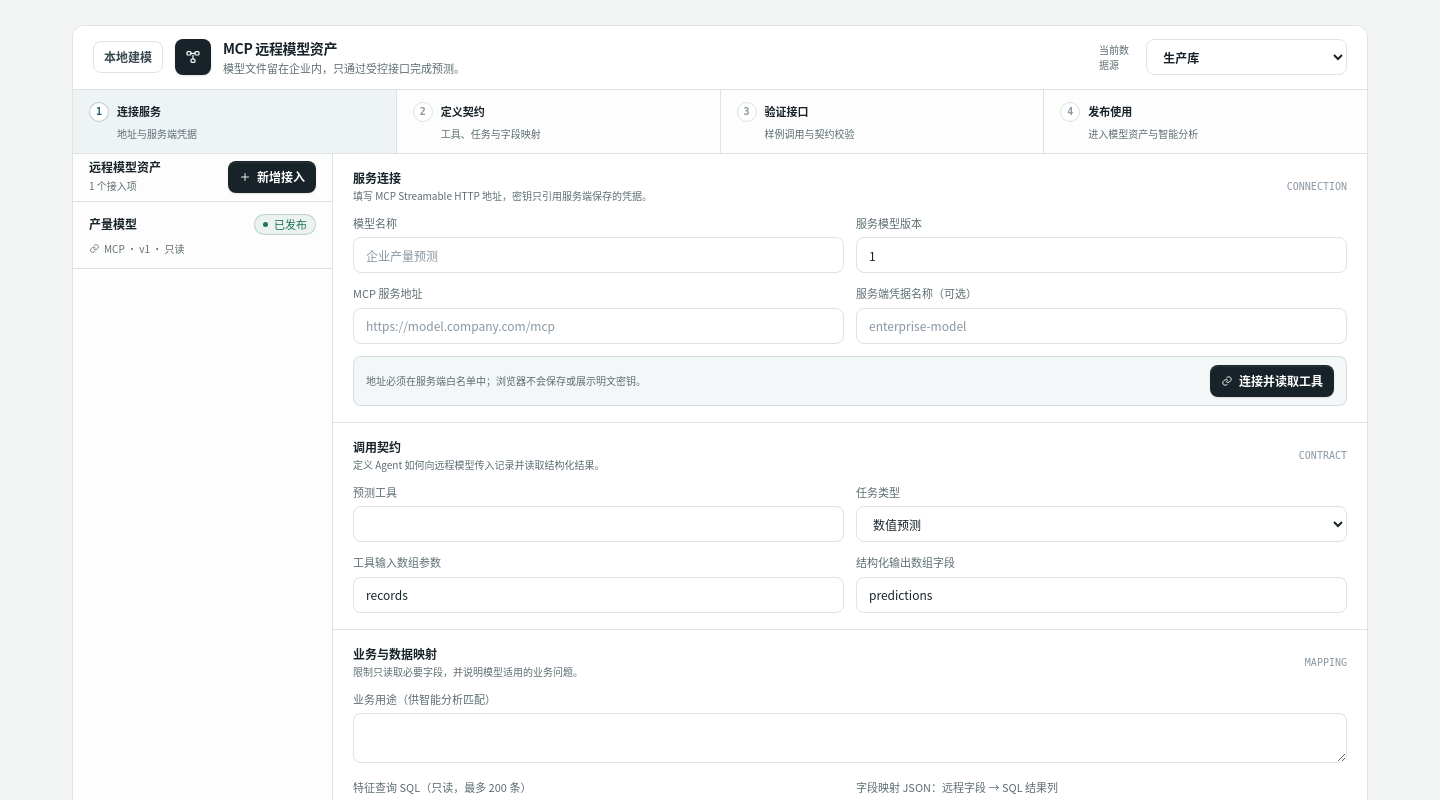
remote models › runs a published model and renders predictions
Click the text "产量模型" at (113, 224), box [89,216,137,232]
(page scrolled)
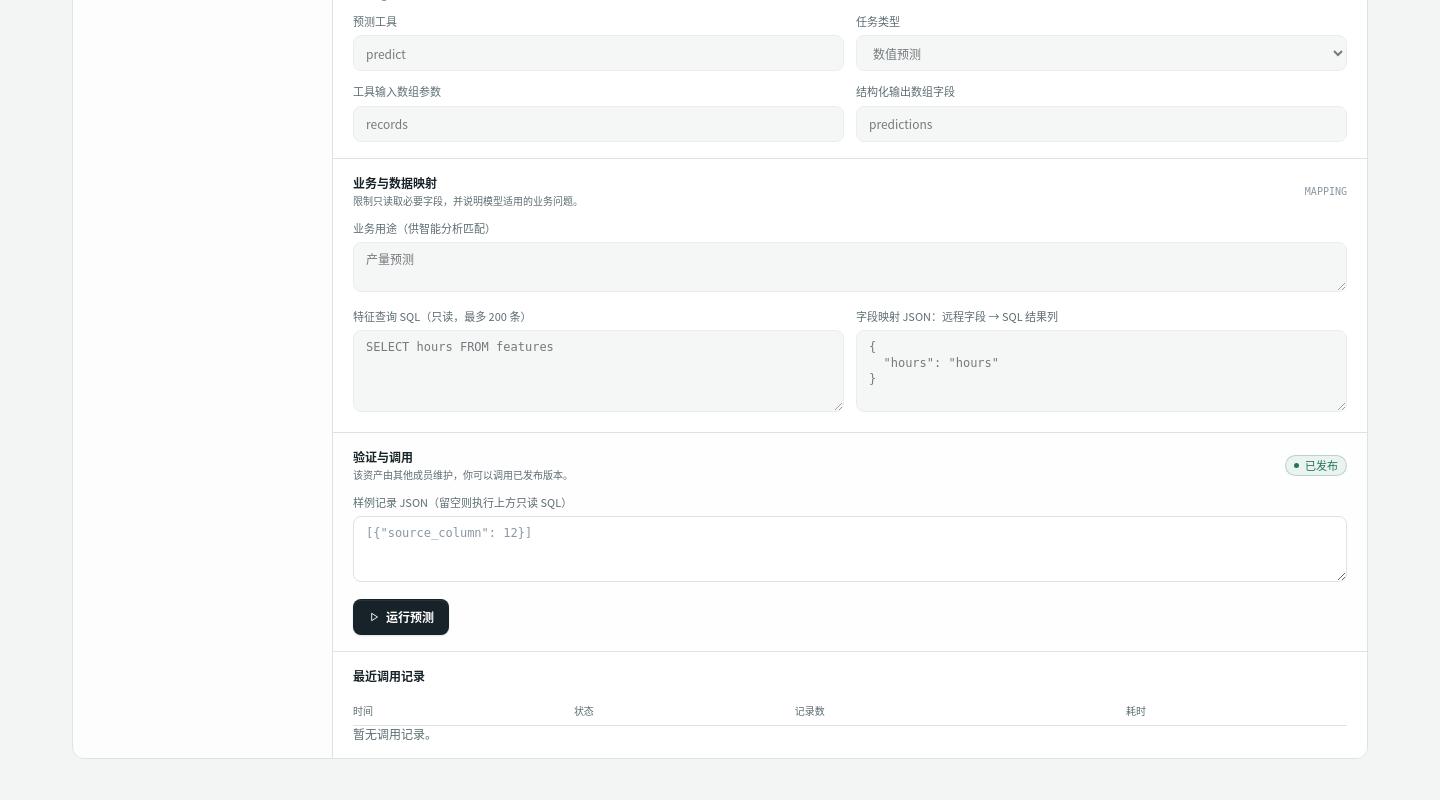
Click the button "运行预测" at (401, 616), box [353,598,449,634]
(page scrolled)
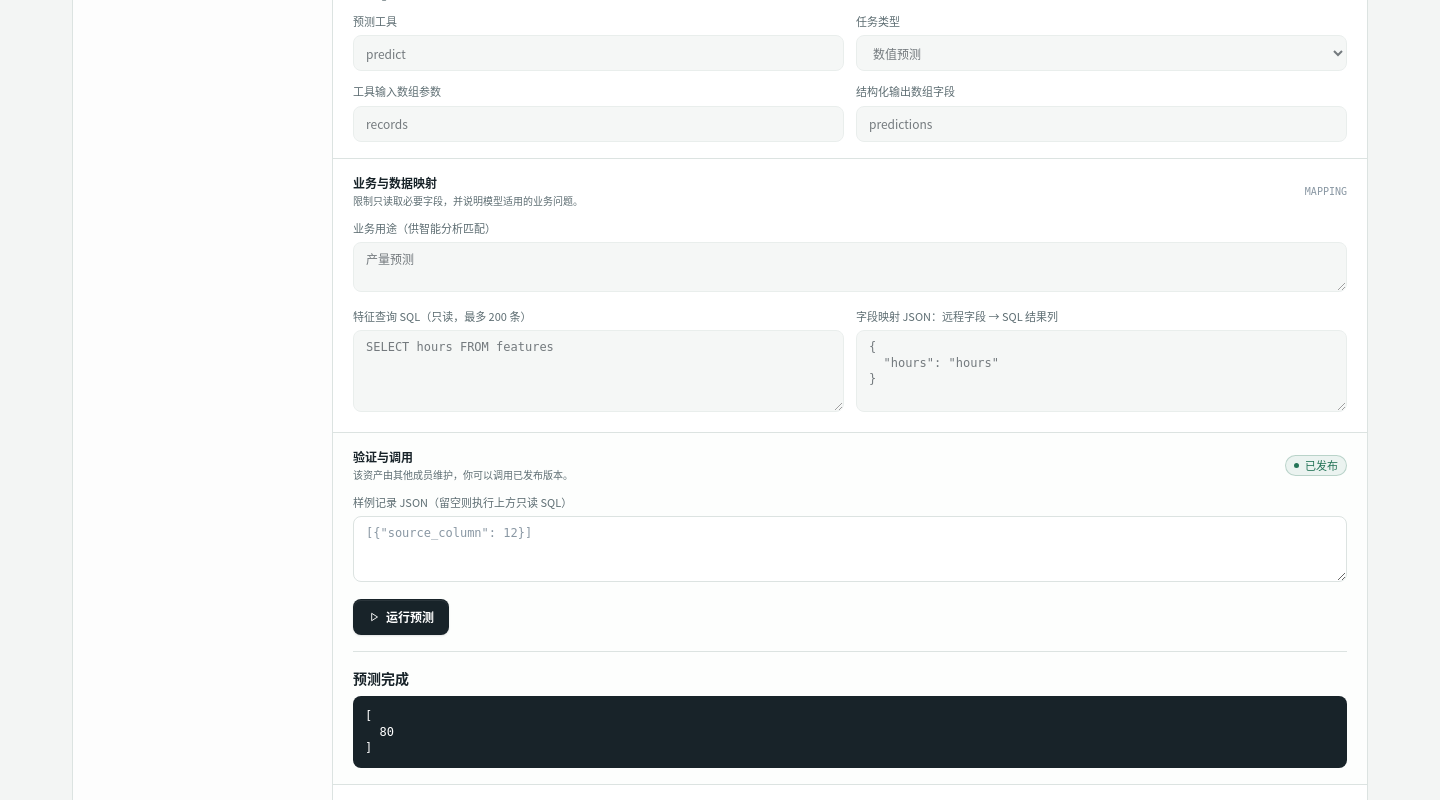
Result: the text "预测完成" is shown at [353,668,409,688]
